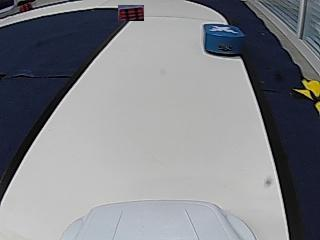prop: (204, 25, 244, 57)
